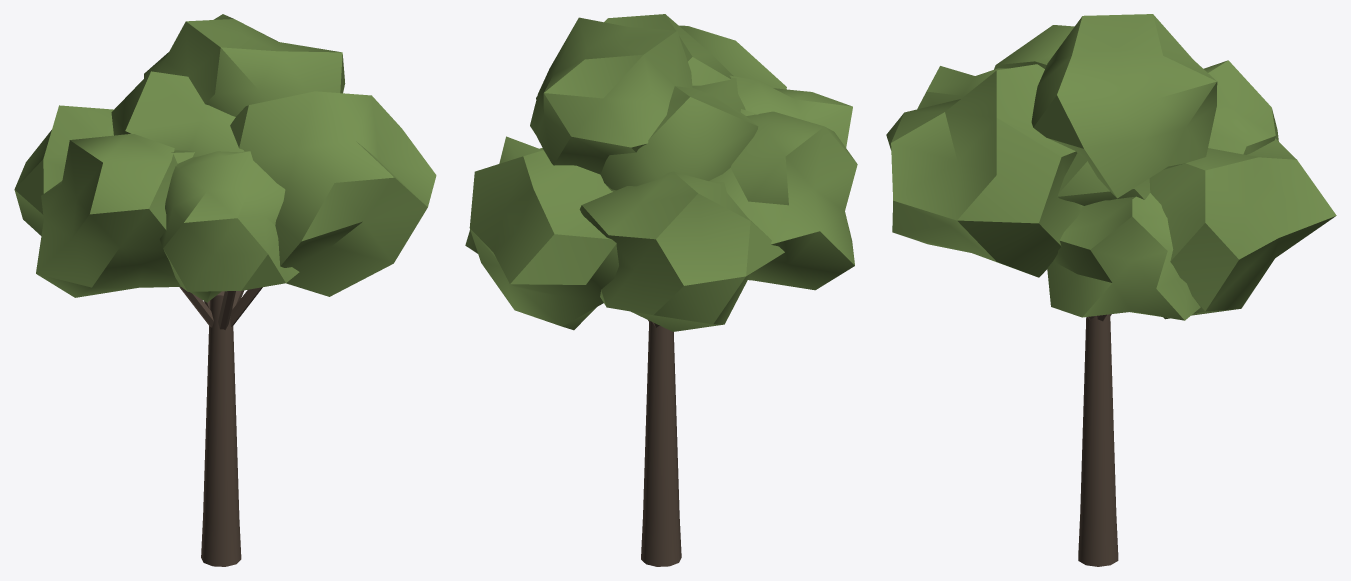
Rendered from tree_maple.glb.
The picture shows the model from 3 angles, left to right: view 1: azimuth 30°, elevation 25°; view 2: azimuth 150°, elevation 25°; view 3: azimuth 270°, elevation 25°; orthographic projection. The views are drawn at different scales.
Visible parts, largest first — view 1: tree_mesh; view 2: tree_mesh; view 3: tree_mesh.
Part boxes in pixels (box(x1,y1,x2,y2)): tree_mesh: box(14, 14, 436, 566); tree_mesh: box(465, 14, 857, 566); tree_mesh: box(886, 14, 1336, 566).
Size of what is drawn, in the model's own units: 4.28 by 6.22 by 4.71.
